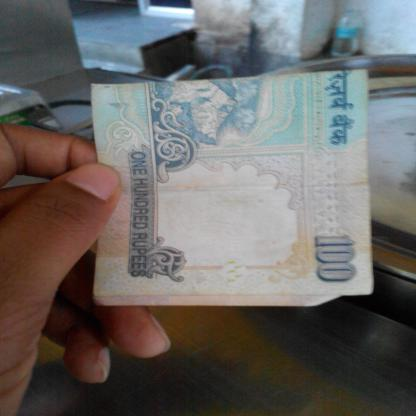Old100Back: (90, 69, 374, 307)
